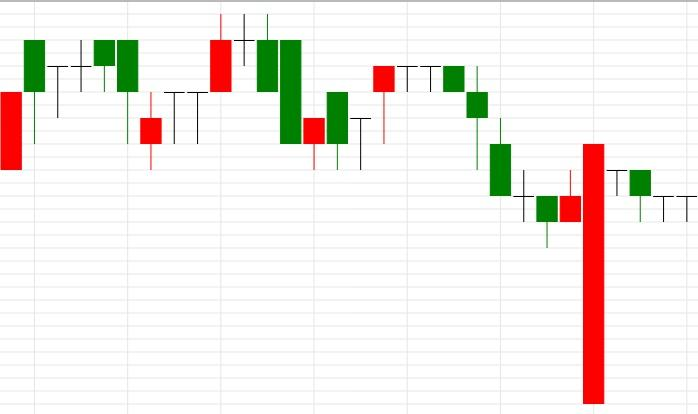evening_star_fall: (140, 13, 278, 170)
